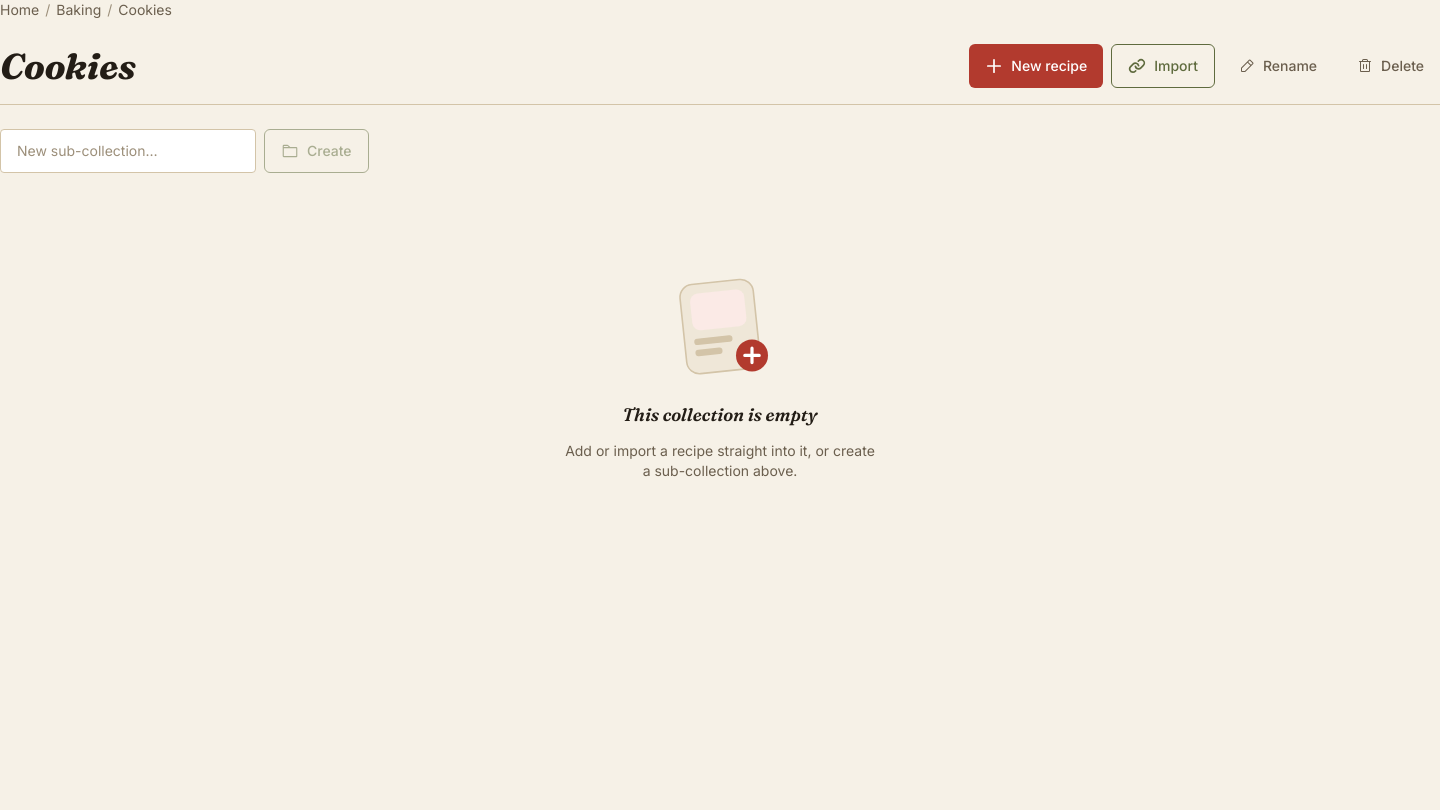
Test: CollectionsPage — a collection (/collections/:id) › deletes a collection, warning about what's inside it, and navigates to its parent
expect the heading "Cookies" is shown: met, box [0,46,136,86]
Click the button "Delete" at (1391, 66), box [1341,44,1439,88]
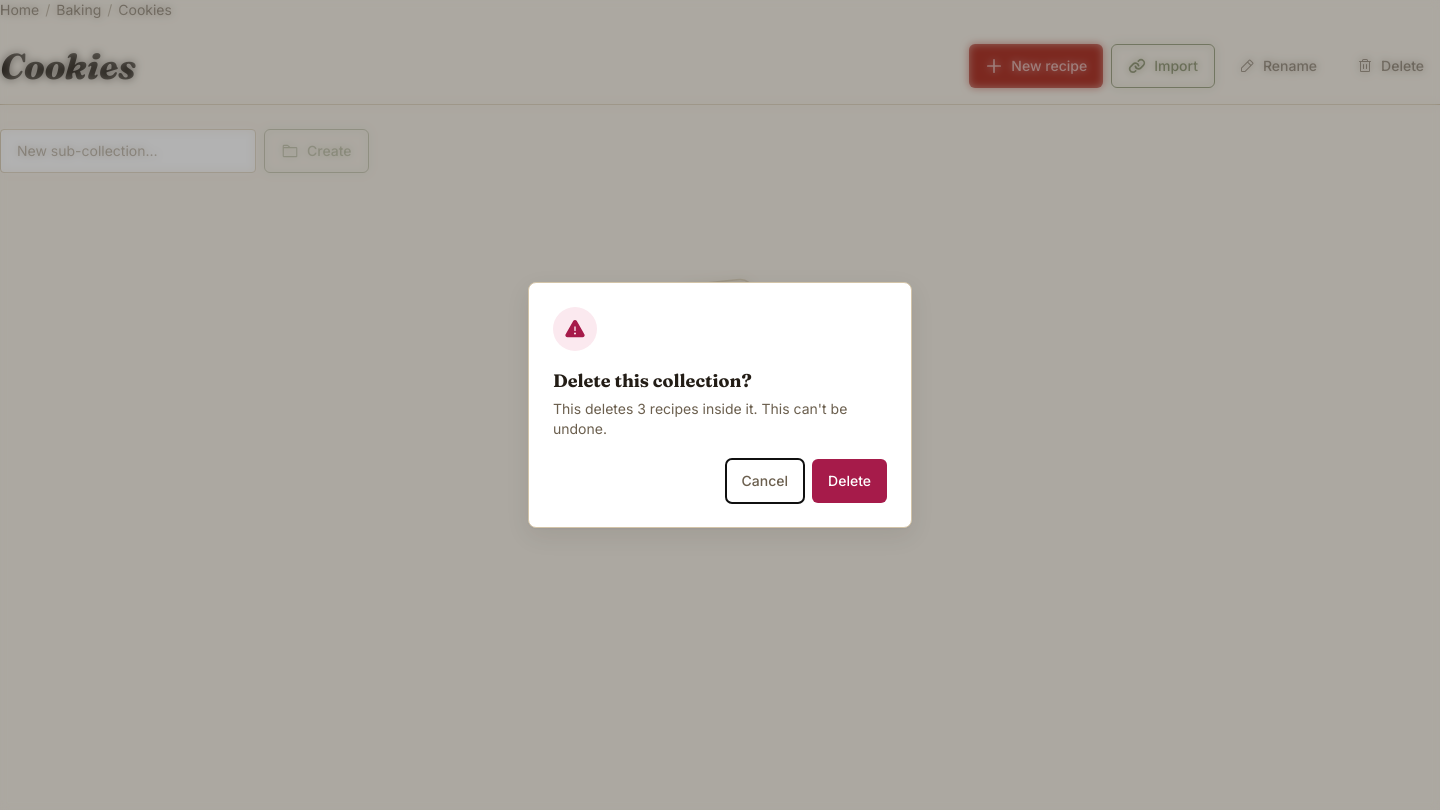
expect the text "This deletes 3 recipes inside it. This can't be undone." is shown: met, box [553,399,887,439]
Click the button "Delete" at (850, 481), box [812,459,887,503]
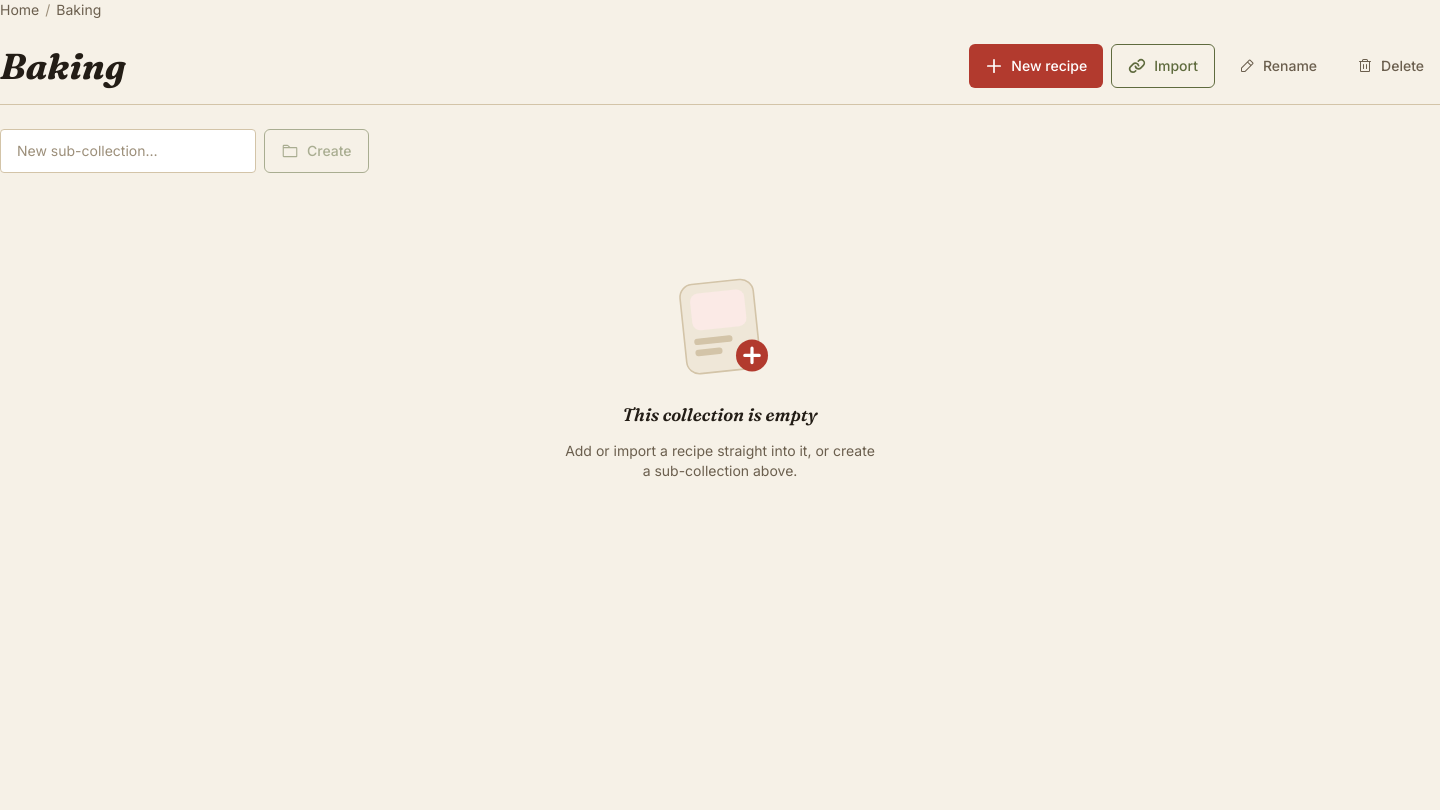
expect the heading "Baking" is shown: met, box [0,46,126,86]
